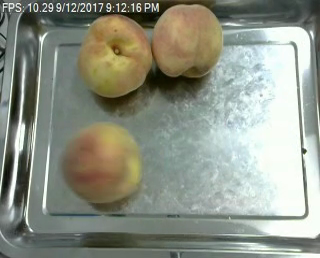Peach: (63, 121, 142, 204), (77, 13, 152, 97), (153, 3, 222, 79)
